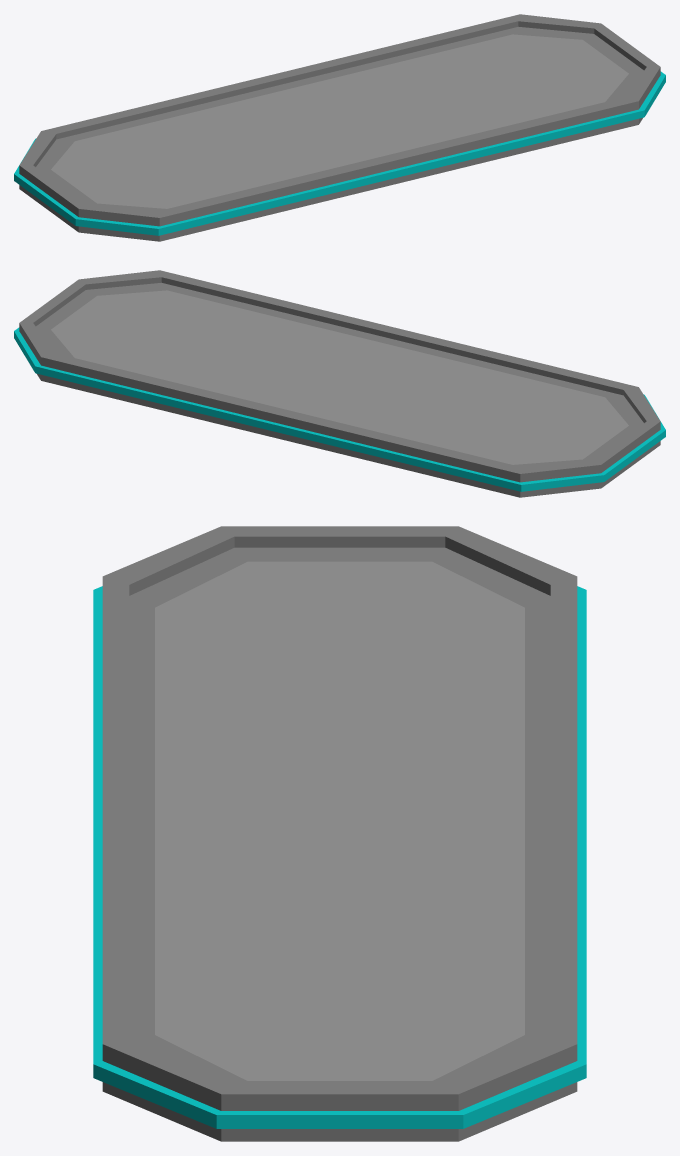
Rendered from MSH_PlataformaRectangular.FBX.
3 renders of one model, top to bottom at view 1: azimuth 30°, elevation 25°; view 2: azimuth 150°, elevation 25°; view 3: azimuth 270°, elevation 25°, orthographic. The views are drawn at different scales.
Visible parts, largest first — view 1: P-RectangularCentro, P-RectangularBorde, P-RectangularNeon; view 2: P-RectangularCentro, P-RectangularBorde, P-RectangularNeon; view 3: P-RectangularCentro, P-RectangularBorde, P-RectangularNeon.
Boxes of the visible parts, left/top/right/bottom form: P-RectangularCentro: left=51, top=34, right=628, bottom=208; P-RectangularBorde: left=19, top=14, right=660, bottom=241; P-RectangularNeon: left=14, top=71, right=665, bottom=235; P-RectangularCentro: left=51, top=290, right=628, bottom=464; P-RectangularBorde: left=19, top=270, right=660, bottom=497; P-RectangularNeon: left=14, top=327, right=665, bottom=491; P-RectangularCentro: left=155, top=561, right=524, bottom=1080; P-RectangularBorde: left=102, top=526, right=577, bottom=1141; P-RectangularNeon: left=93, top=586, right=586, bottom=1128.
Bounding box in the file's own units: 1727 × 66.24 × 625.
